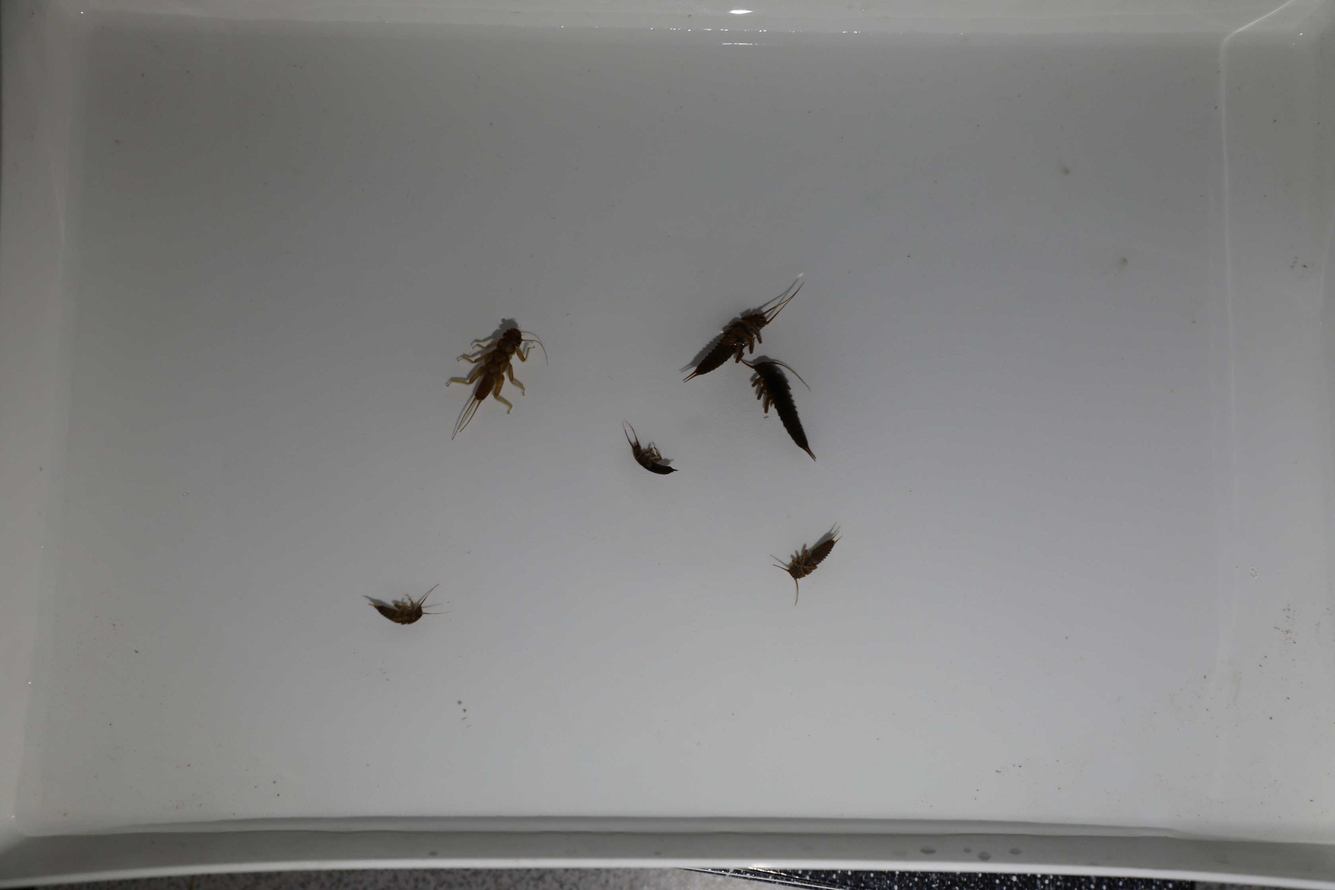Stonefly: (687, 269, 804, 383), (446, 312, 547, 436), (743, 350, 822, 462), (778, 517, 840, 611), (365, 576, 446, 627), (621, 419, 680, 479)
